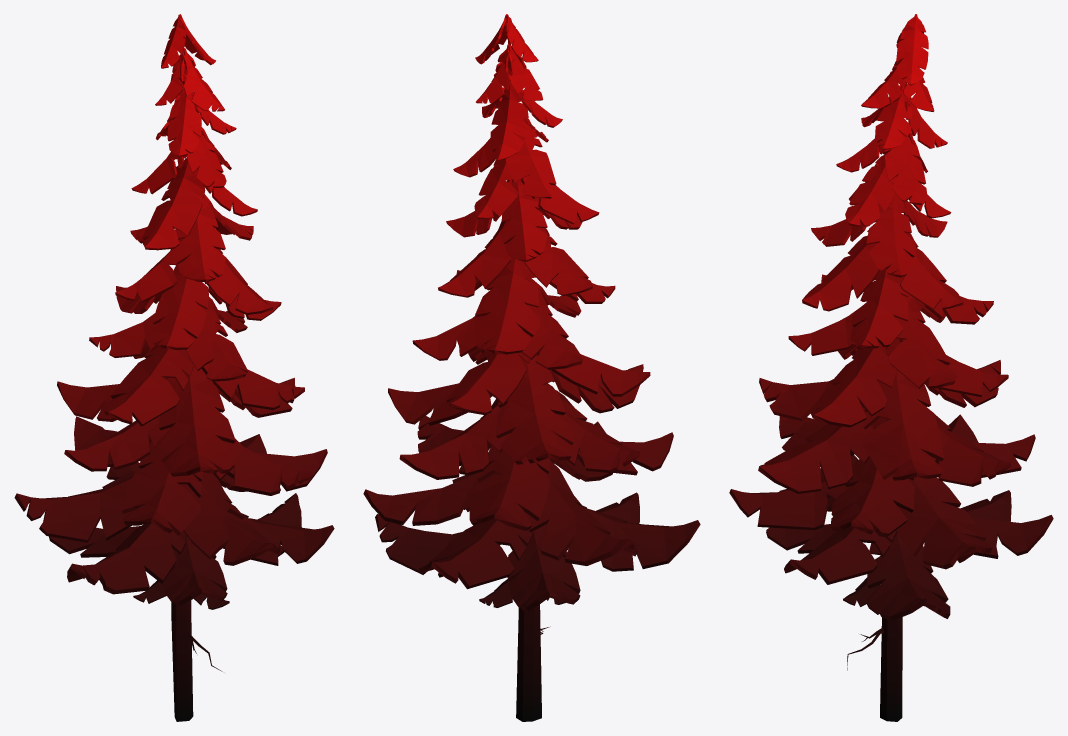
The model's file is TreeSpruce08.fbx.
The picture shows the model from 3 angles, left to right: view 1: azimuth 30°, elevation 25°; view 2: azimuth 150°, elevation 25°; view 3: azimuth 270°, elevation 25°; orthographic projection. The views are drawn at different scales.
Parts seen in each view (by area): view 1: TreeSpruce08_LOD0; view 2: TreeSpruce08_LOD0; view 3: TreeSpruce08_LOD0.
Part boxes in pixels (x1=…): TreeSpruce08_LOD0: x1=14, y1=14, x2=334, y2=721; TreeSpruce08_LOD0: x1=363, y1=14, x2=700, y2=721; TreeSpruce08_LOD0: x1=729, y1=14, x2=1053, y2=721.
Size of what is drawn, in the model's own units: 180 by 438 by 182.
